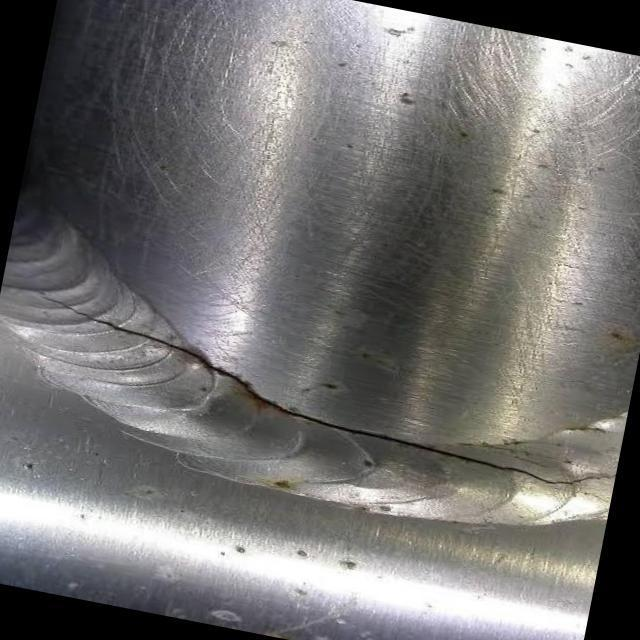defect: (24, 287, 615, 488)
